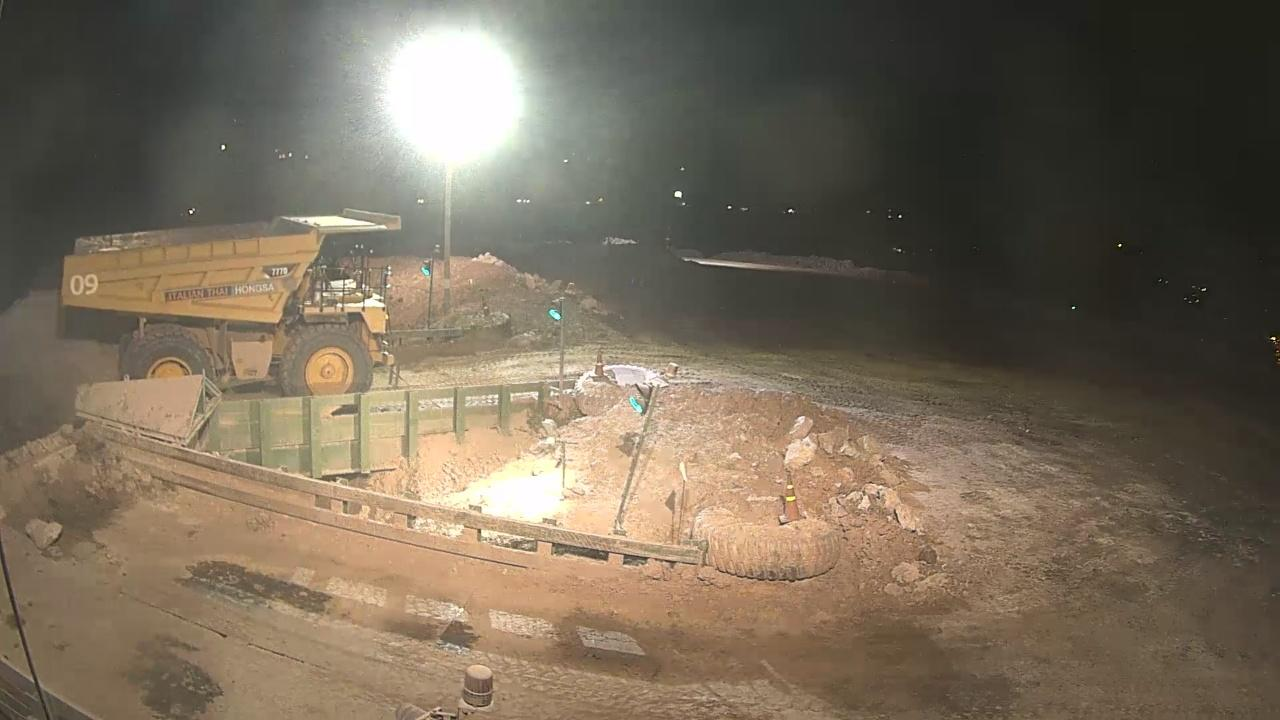mining_truck: (55, 205, 403, 399)
tail_number: (68, 268, 106, 303)
